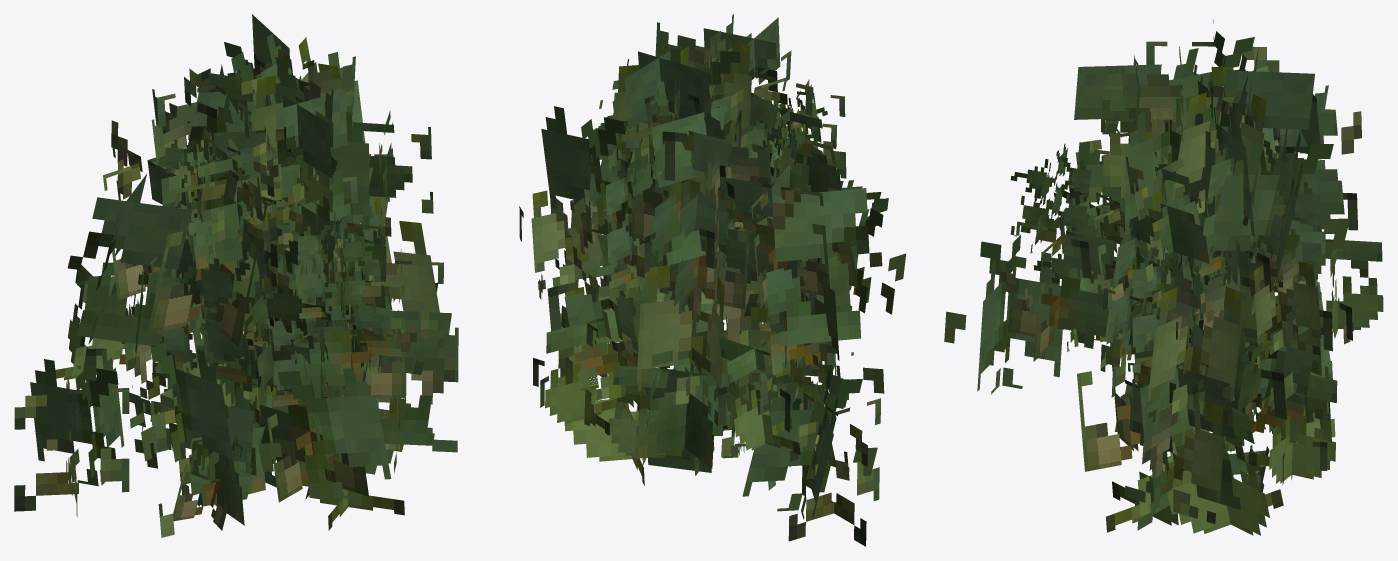
The model's file is rounded-shrub-lod2.glb.
3 views of the same model, side by side, from view 1: azimuth 30°, elevation 25°; view 2: azimuth 150°, elevation 25°; view 3: azimuth 270°, elevation 25° (orthographic). The views are drawn at different scales.
Visible parts, largest first — view 1: impostor; view 2: impostor; view 3: impostor.
Part boxes in pixels (x1=…): impostor: x1=14, y1=14, x2=458, y2=537; impostor: x1=519, y1=14, x2=906, y2=546; impostor: x1=944, y1=19, x2=1383, y2=535.
Bounding box in the file's own units: 1.09 × 1.26 × 1.13.
1 material, 1 textured.
